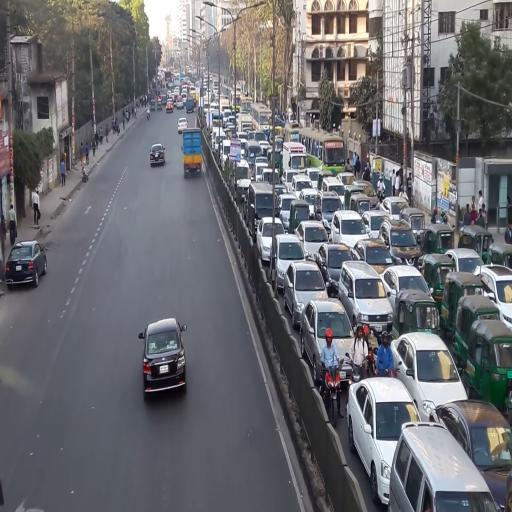bus: (298, 127, 347, 175), (251, 102, 273, 131), (285, 123, 300, 144)
car: (347, 377, 424, 506), (434, 397, 511, 499), (394, 334, 470, 418), (300, 297, 357, 391), (139, 318, 192, 405), (284, 260, 330, 327), (380, 265, 437, 313), (270, 234, 307, 293), (316, 243, 357, 292), (7, 237, 46, 286), (475, 265, 511, 311), (257, 218, 286, 265), (298, 222, 332, 261), (446, 248, 486, 277), (277, 195, 299, 229), (379, 197, 411, 220), (353, 180, 377, 203), (151, 145, 166, 165), (338, 172, 357, 187), (178, 118, 189, 133)
minivan: (388, 420, 500, 512), (339, 259, 393, 336), (234, 159, 254, 200), (322, 176, 348, 206), (293, 175, 315, 201)
motorbike: (321, 328, 347, 426), (346, 322, 370, 418), (372, 330, 403, 382), (147, 108, 151, 120)
pickup: (183, 127, 205, 176), (284, 143, 308, 177), (212, 108, 224, 140), (238, 113, 254, 136)
suv: (332, 210, 370, 248), (315, 190, 344, 235), (221, 141, 232, 169)
three wheelers (CNG): (467, 320, 510, 405), (456, 298, 501, 369), (417, 252, 457, 318), (394, 289, 441, 338), (461, 227, 493, 262), (427, 221, 456, 258), (401, 205, 427, 237), (290, 199, 311, 237), (350, 195, 371, 215), (489, 245, 512, 262), (157, 98, 164, 111), (151, 100, 156, 112)
truck: (210, 109, 224, 133), (186, 94, 195, 114)
van: (248, 182, 280, 241), (245, 140, 264, 172)
